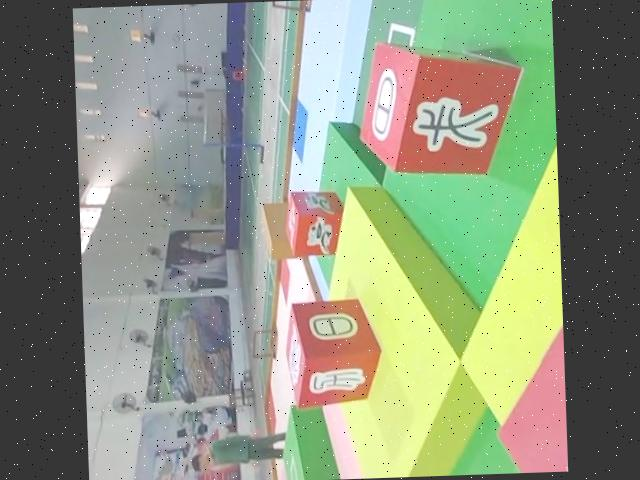R1: (285, 190, 345, 259)
R2 Fake: (355, 38, 526, 179), (284, 297, 384, 410)
